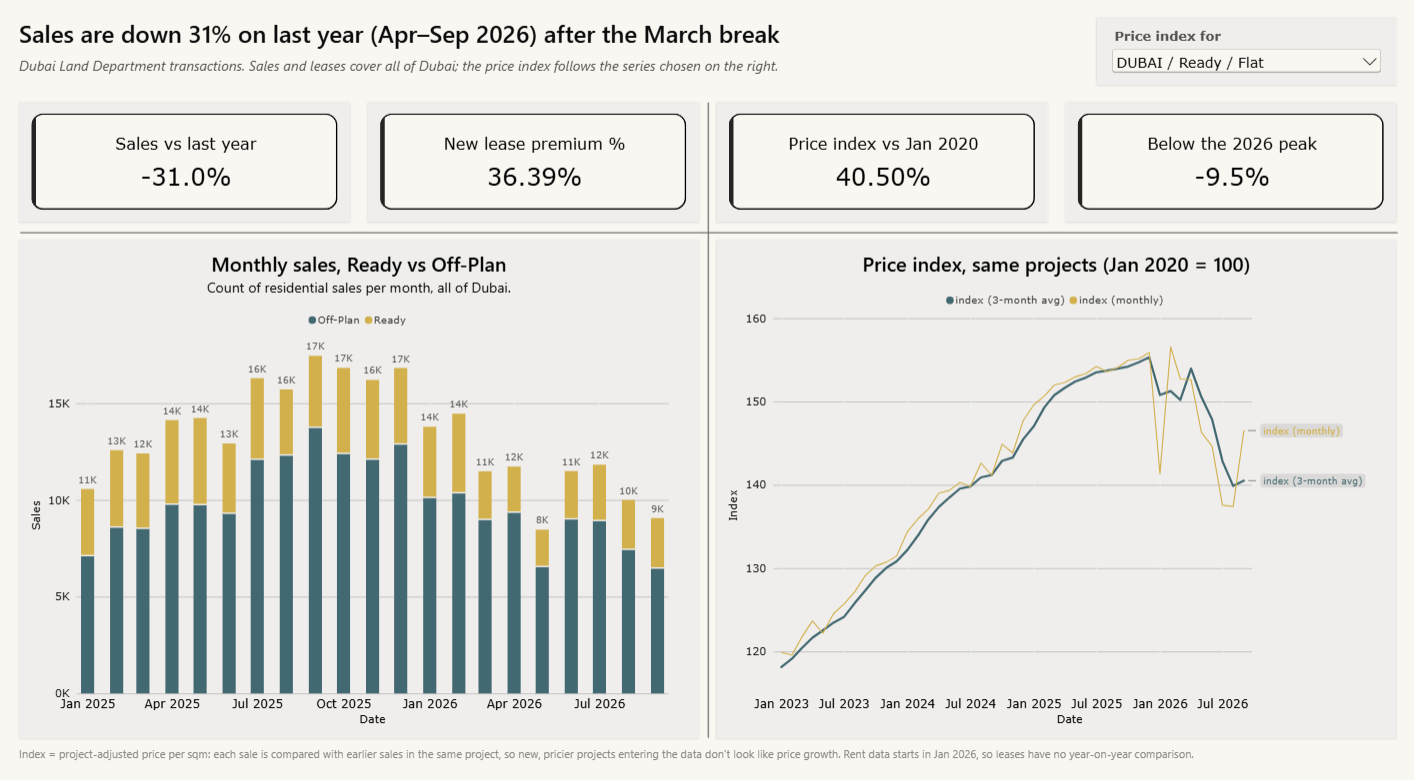

What the dashboard file says about the page in this screenshot:
{"tool":"powerbi","page":{"name":"Market pulse","canvas":[1920,1080],"ordinal":2},"visuals":[{"type":"textbox","box":[40,36.7,1275,53.1],"z":0,"group":"g1"},{"type":"textbox","box":[40,88.4,1275,43.3],"z":1000,"group":"g1"},{"type":"slicer","fields":{"Values":["Series.series_id"]},"box":[1480,36.7,401.2,90.7],"z":2000},{"type":"cardVisual","title":"Sales vs last year","fields":{"Data":["_Measures.Sales YoY %"]},"box":[40,150,442,160],"z":3000},{"type":"cardVisual","fields":{"Data":["_Measures.New lease premium %"]},"box":[506,150,442,160],"z":4000},{"type":"cardVisual","fields":{"Data":["_Measures.Price index vs Jan 2020"]},"box":[972,150,442,160],"z":5000},{"type":"cardVisual","fields":{"Data":["_Measures.Below peak %"]},"box":[1438,150,442,160],"z":6000},{"type":"columnChart","title":"Monthly sales, Ready vs Off-Plan","fields":{"Category":["Date.Date"],"Series":["monthly_sales.reg_type"],"Y":["Sum(monthly_sales.sales)"]},"box":[40,334,908,666],"z":7000},{"type":"lineChart","title":"Price index, same projects (Jan 2020 = 100)","fields":{"Category":["Date.Date"],"Series":["index_lines.line"],"Y":["_Measures.Index"]},"box":[972,334,908,666],"z":8000},{"type":"textbox","box":[40,1012,1840,56],"z":9000},{"type":"shape","box":[941.7,150,38.3,850],"z":10000},{"type":"shape","box":[41.7,310,1840,28.3],"z":11000},{"type":"group","id":"g1","title":"Group 1","box":[40,36.7,1275,95],"z":11001}]}

Visuals, with their boxes in screenshot pixels (x1, y1, x2, y2), scaled from the page's 1920x1080 canvas onto the 1414x780 screenshot:
textbox: [29, 27, 968, 65]
textbox: [29, 64, 968, 95]
slicer - Series.series_id: [1090, 27, 1385, 92]
"Sales vs last year" cardVisual: [29, 108, 355, 224]
cardVisual - _Measures.New lease premium %: [373, 108, 698, 224]
cardVisual - _Measures.Price index vs Jan 2020: [716, 108, 1041, 224]
cardVisual - _Measures.Below peak %: [1059, 108, 1385, 224]
"Monthly sales, Ready vs Off-Plan" columnChart: [29, 241, 698, 722]
"Price index, same projects (Jan 2020 = 100)" lineChart: [716, 241, 1385, 722]
textbox: [29, 731, 1385, 771]
shape: [694, 108, 722, 722]
shape: [31, 224, 1386, 244]
"Group 1" group: [29, 27, 968, 95]
